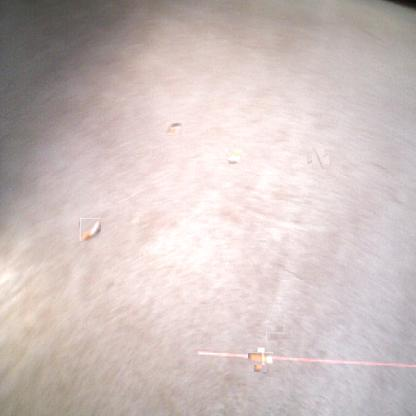dirty: (80, 218, 102, 240), (251, 349, 270, 369), (228, 149, 242, 165), (166, 122, 182, 135)
mark: (271, 327, 289, 346), (310, 150, 326, 167)
